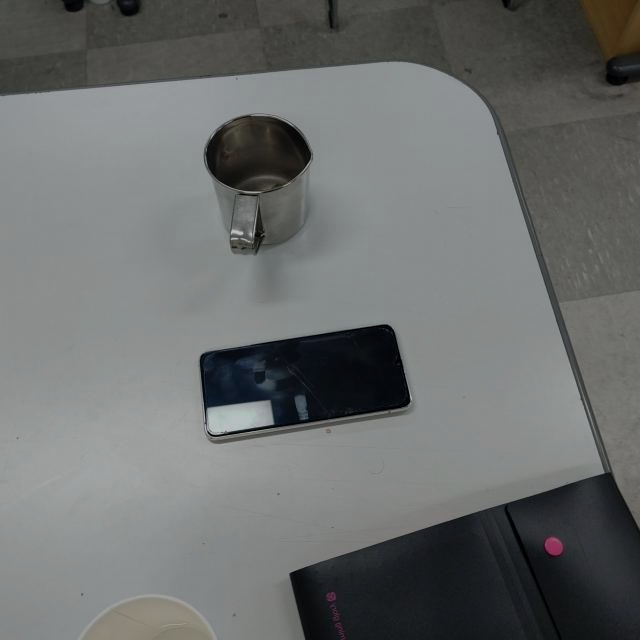cup: (204, 111, 315, 258)
phone: (198, 323, 411, 445)
